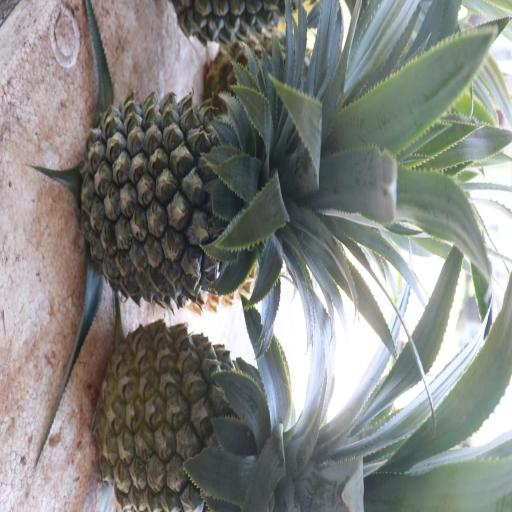------------------------------: (101, 320, 286, 512)
